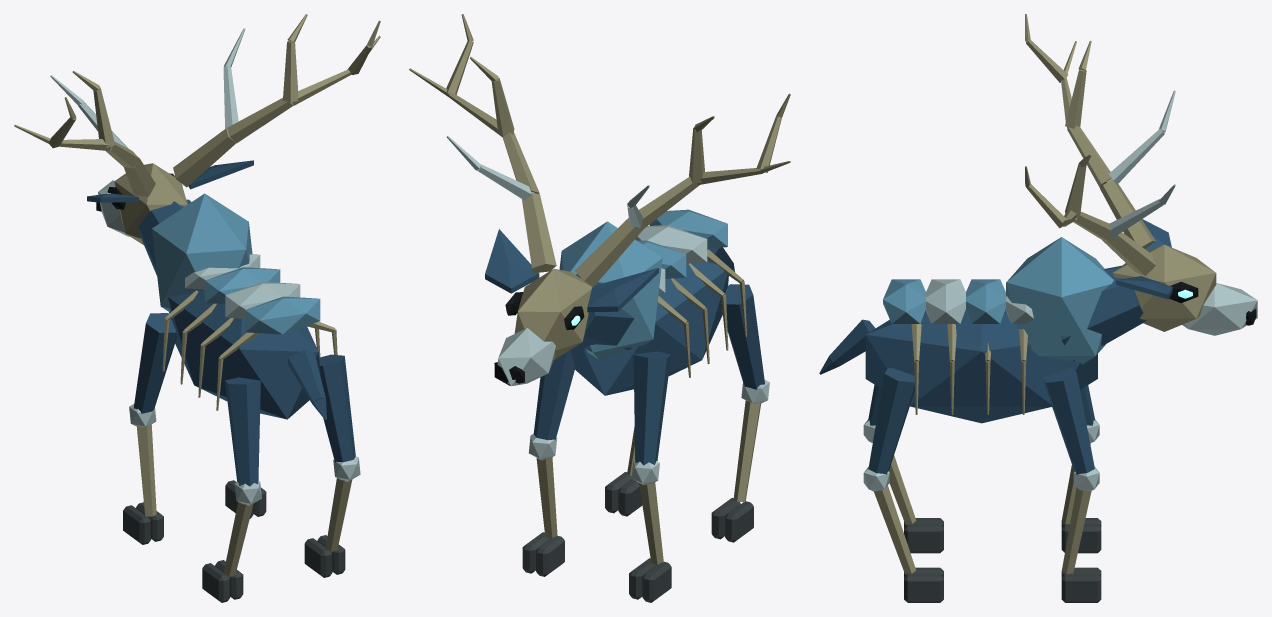
The model's file is antler_revenant.glb.
3 renders of one model, left to right at view 1: azimuth 30°, elevation 25°; view 2: azimuth 150°, elevation 25°; view 3: azimuth 270°, elevation 25°, orthographic. The views are drawn at different scales.
Visible parts, largest first — view 1: antler_revenant_AnimatedMesh; view 2: antler_revenant_AnimatedMesh; view 3: antler_revenant_AnimatedMesh.
Boxes of the visible parts, bbox=[...] form: antler_revenant_AnimatedMesh: bbox=[14, 14, 380, 602]; antler_revenant_AnimatedMesh: bbox=[409, 14, 790, 602]; antler_revenant_AnimatedMesh: bbox=[819, 14, 1257, 602].
Size of the model in its own units: 2.01 by 2.54 by 2.09.
